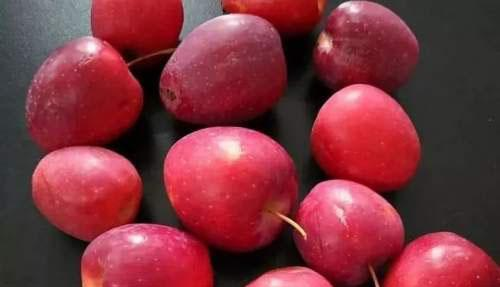apple: (163, 127, 303, 254), (158, 11, 285, 124), (21, 37, 142, 152), (308, 83, 421, 191), (294, 179, 406, 286), (30, 145, 142, 242), (311, 1, 418, 93), (78, 224, 214, 287), (379, 231, 498, 286), (219, 1, 321, 39)
